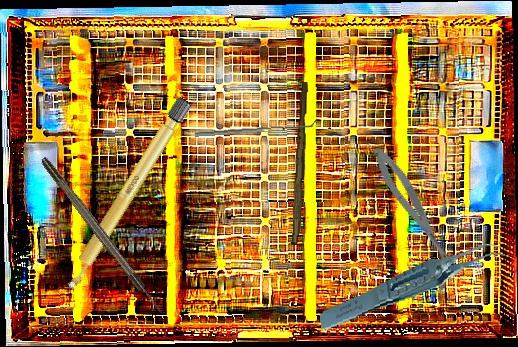Hook Surgical: (39, 154, 167, 320)
Micro Scissor: (367, 142, 459, 274)
Scalpel Handle: (57, 93, 195, 297), (292, 81, 309, 246)
Spatula Surgical: (194, 119, 319, 137)
Tissue Forceps: (312, 241, 516, 332)
